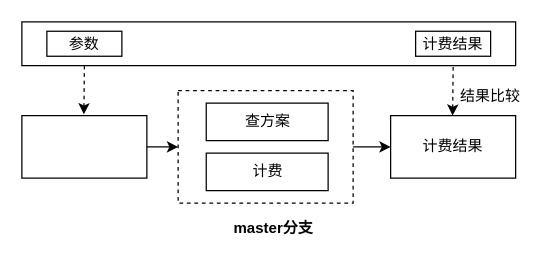
Some shapes in this 550 by 263 pixel diagram are drawn without their labels. The box of each missing label's shape, as (x1, y1, x2, y2) in pixels:
DB用例库: (21, 21, 516, 66)
获取用例参数: (21, 114, 147, 178)
